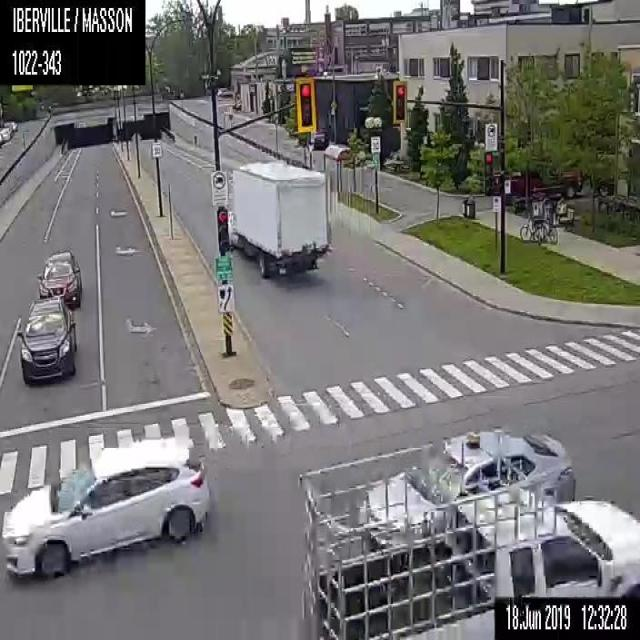vehicle: (298, 424, 639, 639), (0, 433, 211, 580), (356, 430, 576, 557), (226, 156, 332, 281), (492, 594, 639, 638), (16, 295, 78, 387), (35, 249, 83, 309), (310, 127, 326, 149)
